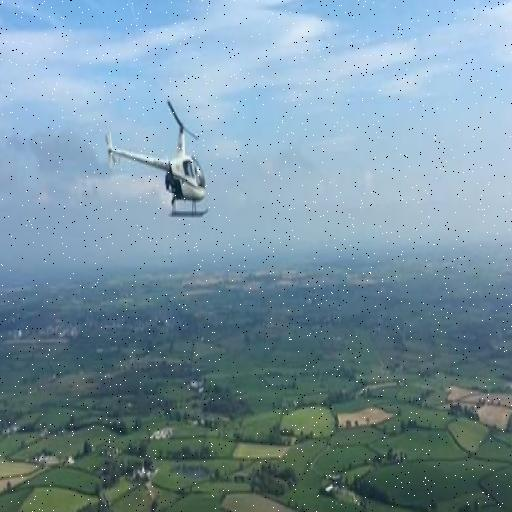helicopter: (106, 102, 214, 218)
